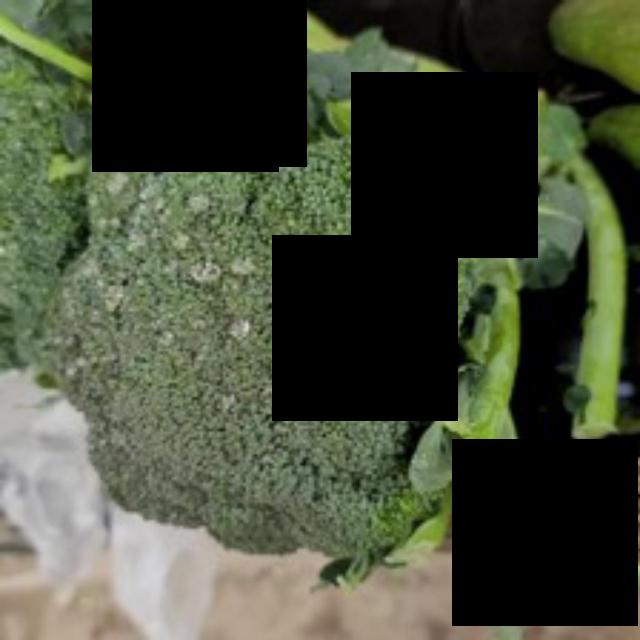broccoli: (43, 87, 486, 571)
